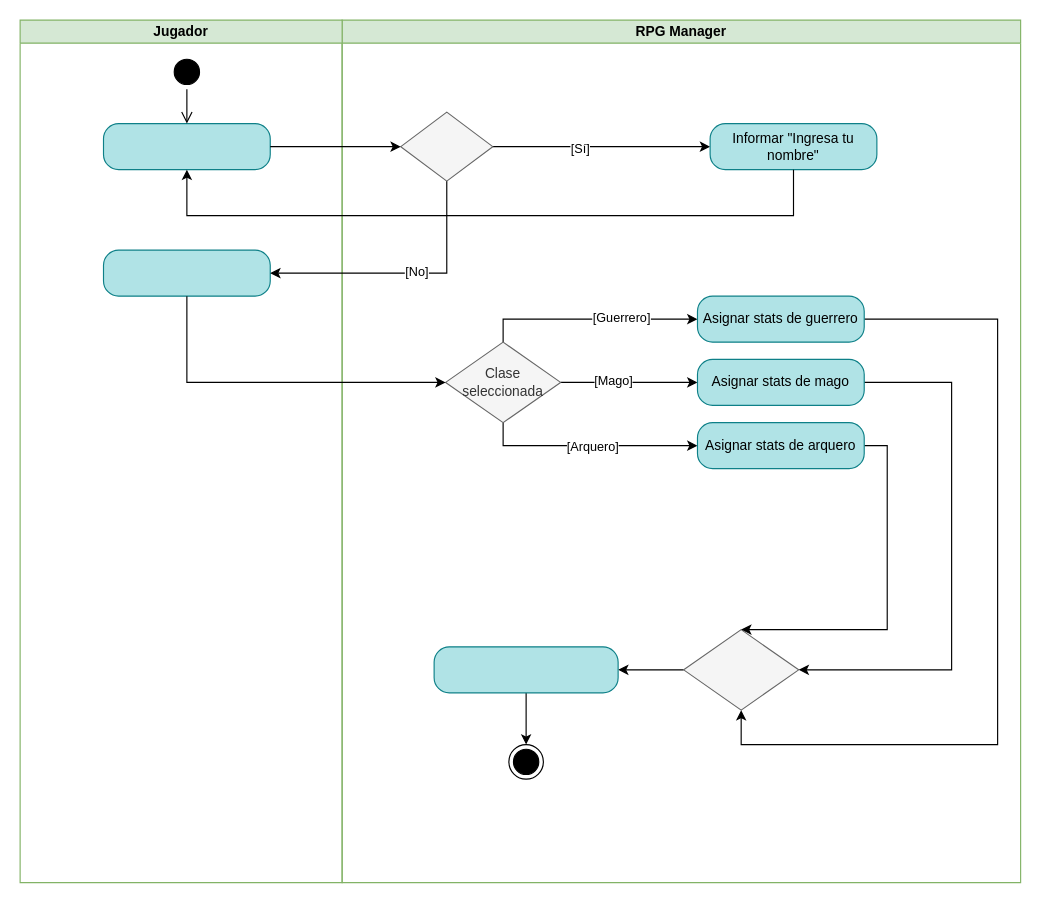
This 1041x903 diagram has some shape labels left out. Each missing label, with the box of its shape:
Crear inventario vacío del personaje: (433, 646, 618, 693)
Ingresar nombre: (102, 122, 270, 170)
Seleccionar clase: (102, 249, 270, 296)
¿Nombre vacío?: (400, 111, 493, 181)
